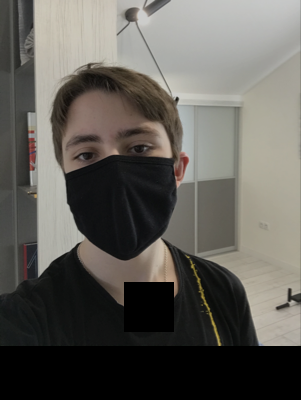with_mask: (61, 111, 181, 261)
